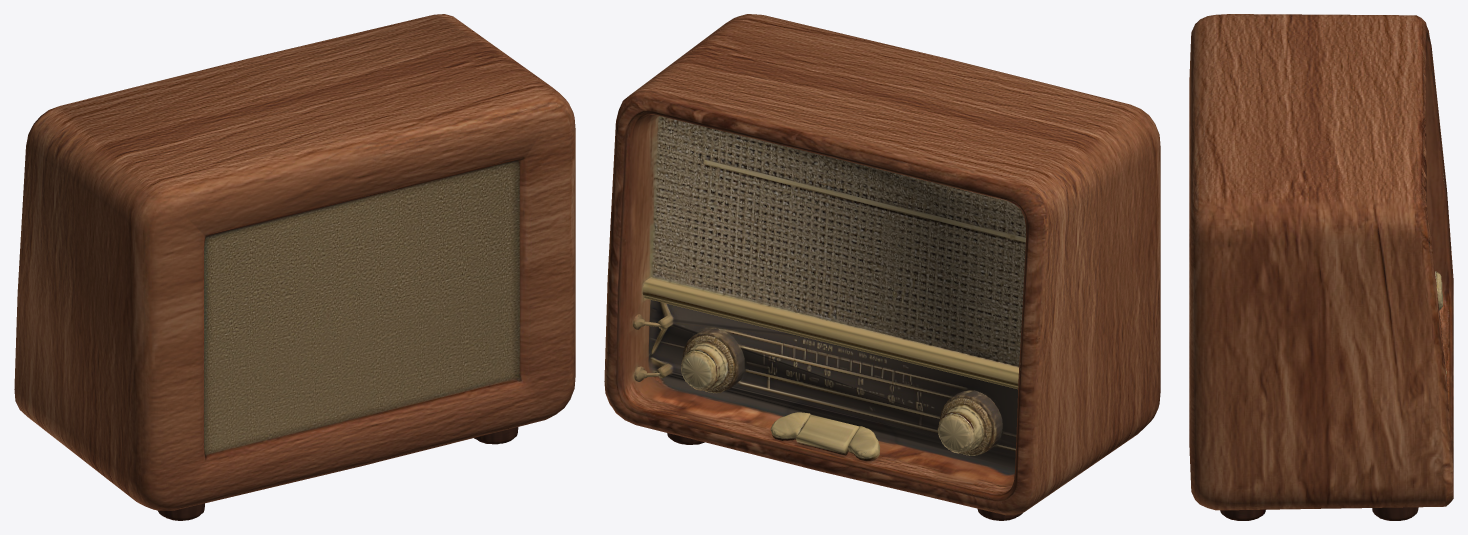
Rendered from prop-wood-radio-v01.glb.
The picture shows the model from 3 angles, left to right: view 1: azimuth 30°, elevation 25°; view 2: azimuth 150°, elevation 25°; view 3: azimuth 270°, elevation 25°; orthographic projection. The views are drawn at different scales.
Visible parts, largest first — view 1: tripo_node_92ca9029-8c63-4a71-9abd-1e68ccbaf9bc; view 2: tripo_node_92ca9029-8c63-4a71-9abd-1e68ccbaf9bc; view 3: tripo_node_92ca9029-8c63-4a71-9abd-1e68ccbaf9bc.
Boxes of the visible parts, x1,y1,x2,y2 form: tripo_node_92ca9029-8c63-4a71-9abd-1e68ccbaf9bc: (14, 14, 575, 520); tripo_node_92ca9029-8c63-4a71-9abd-1e68ccbaf9bc: (604, 14, 1160, 520); tripo_node_92ca9029-8c63-4a71-9abd-1e68ccbaf9bc: (1189, 14, 1453, 520).
Bounding box in the file's own units: 0.2627 × 0.2 × 0.1424.
Materials: 1 (1 with a texture image).
